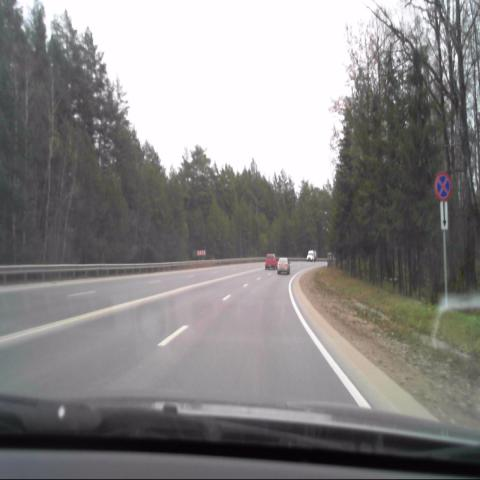8_2_3: (440, 201, 448, 231)
